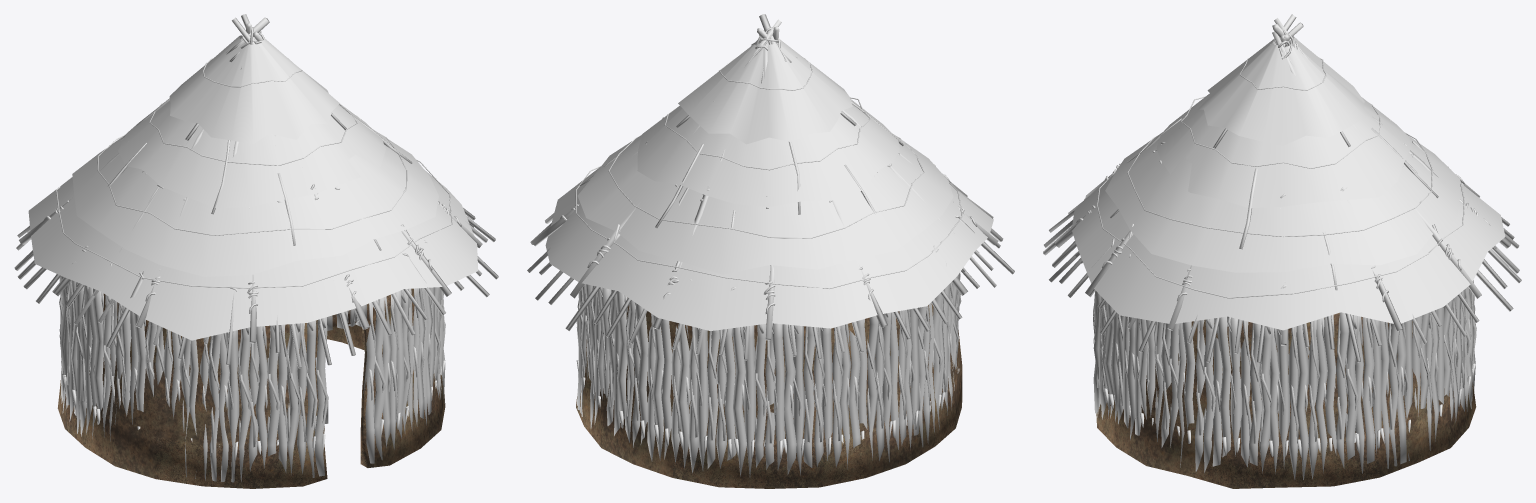
The model's file is lowpoly_african_hut_004.fbx.
3 renders of one model, left to right at view 1: azimuth 30°, elevation 25°; view 2: azimuth 150°, elevation 25°; view 3: azimuth 270°, elevation 25°, orthographic.
Visible parts, largest first — view 1: lowpoly_african_hut_004; view 2: lowpoly_african_hut_004; view 3: lowpoly_african_hut_004.
Boxes of the visible parts, x1=… form: lowpoly_african_hut_004: x1=14, y1=14, x2=498, y2=488; lowpoly_african_hut_004: x1=527, y1=14, x2=1014, y2=488; lowpoly_african_hut_004: x1=1043, y1=14, x2=1521, y2=488.
Size of the model in its own units: 388 by 351 by 390.
